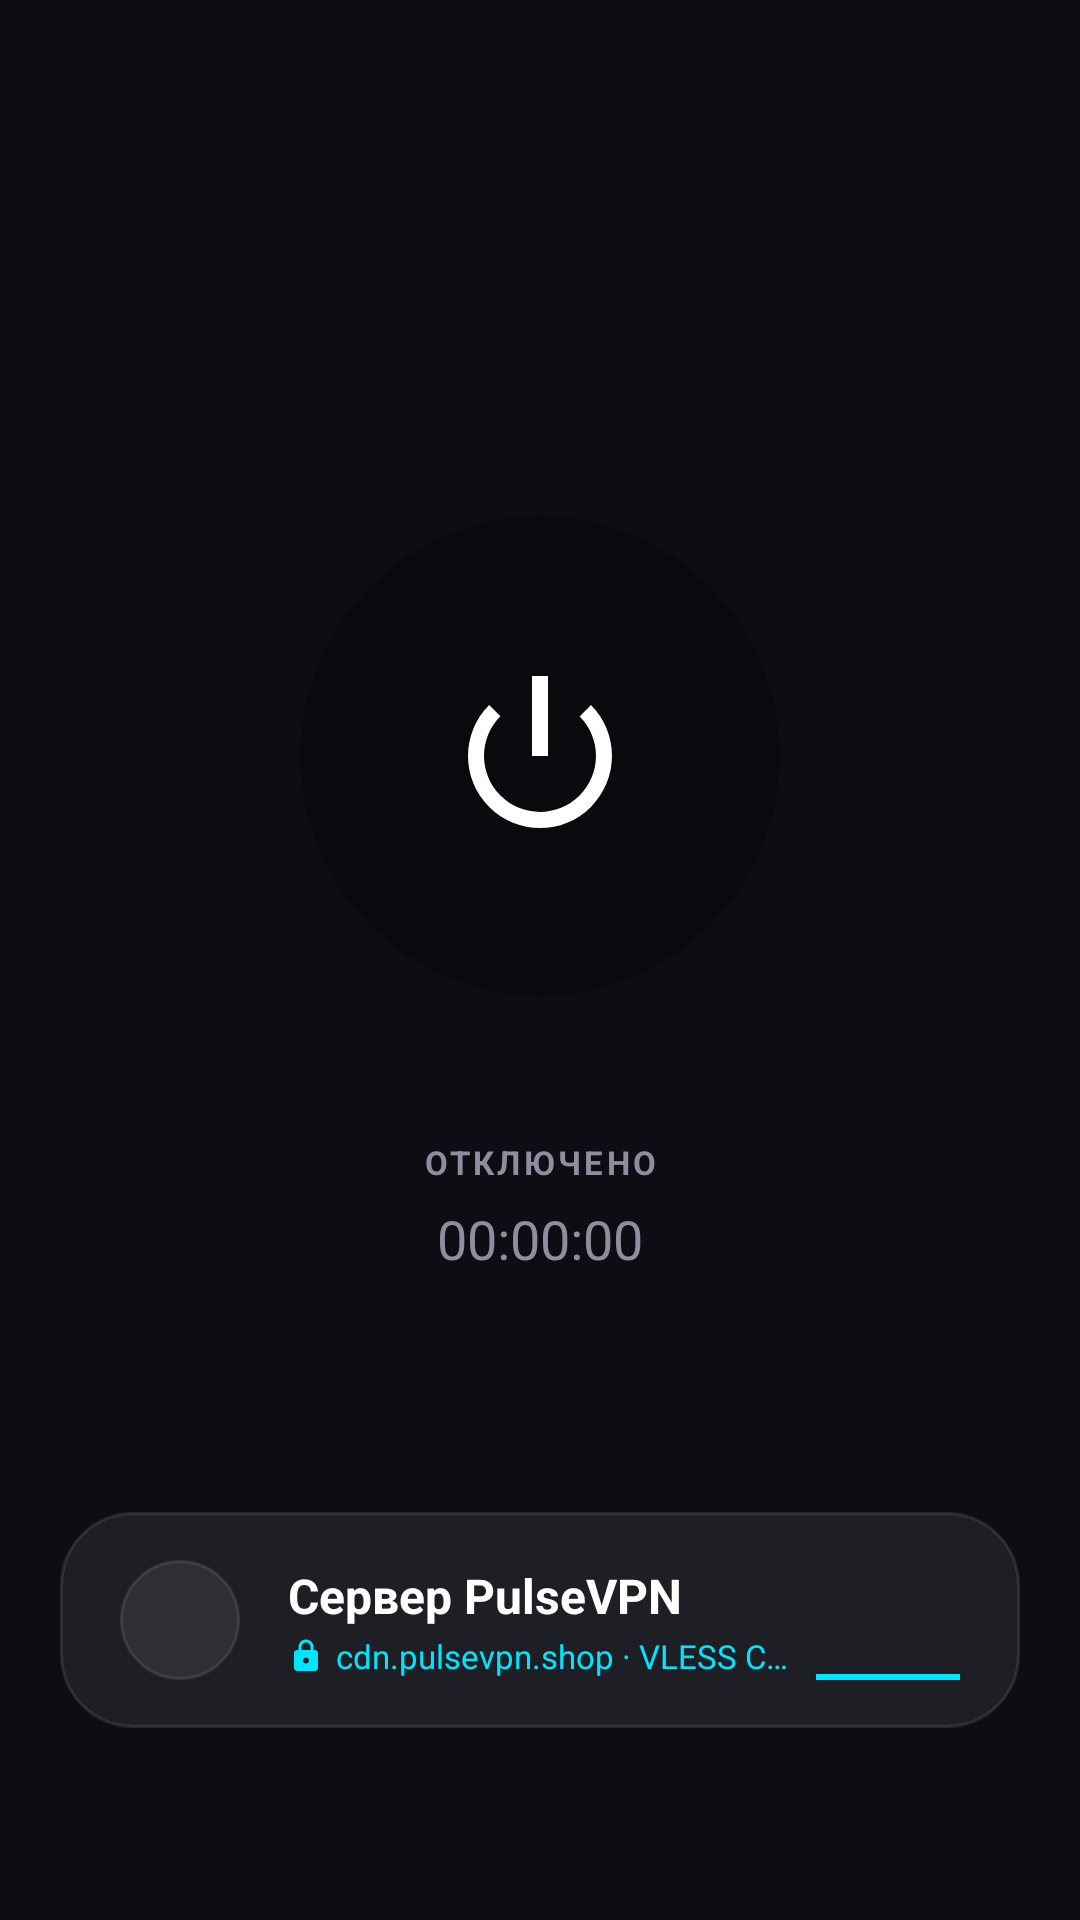

Locate icon controls on the screen. Image size 1080px×1920px, boxes as detection(x1, y1, x2, y2).
lock: detection(294, 1639, 318, 1671)
